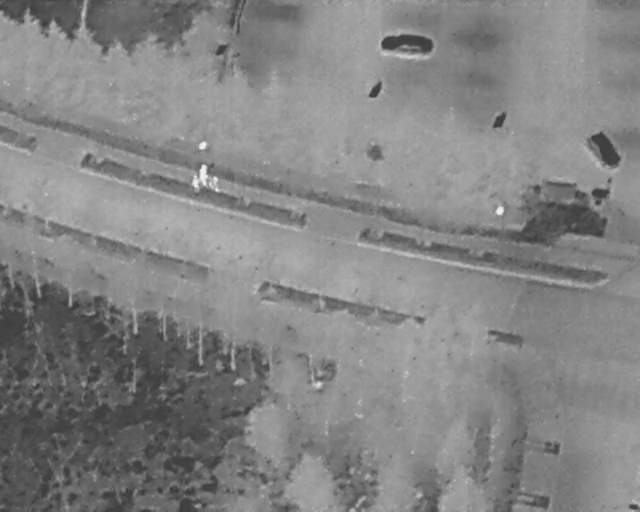Car: (523, 181, 607, 237), (586, 127, 623, 170), (379, 33, 434, 56)
Person: (198, 164, 209, 188), (209, 174, 220, 194), (191, 174, 200, 193)
